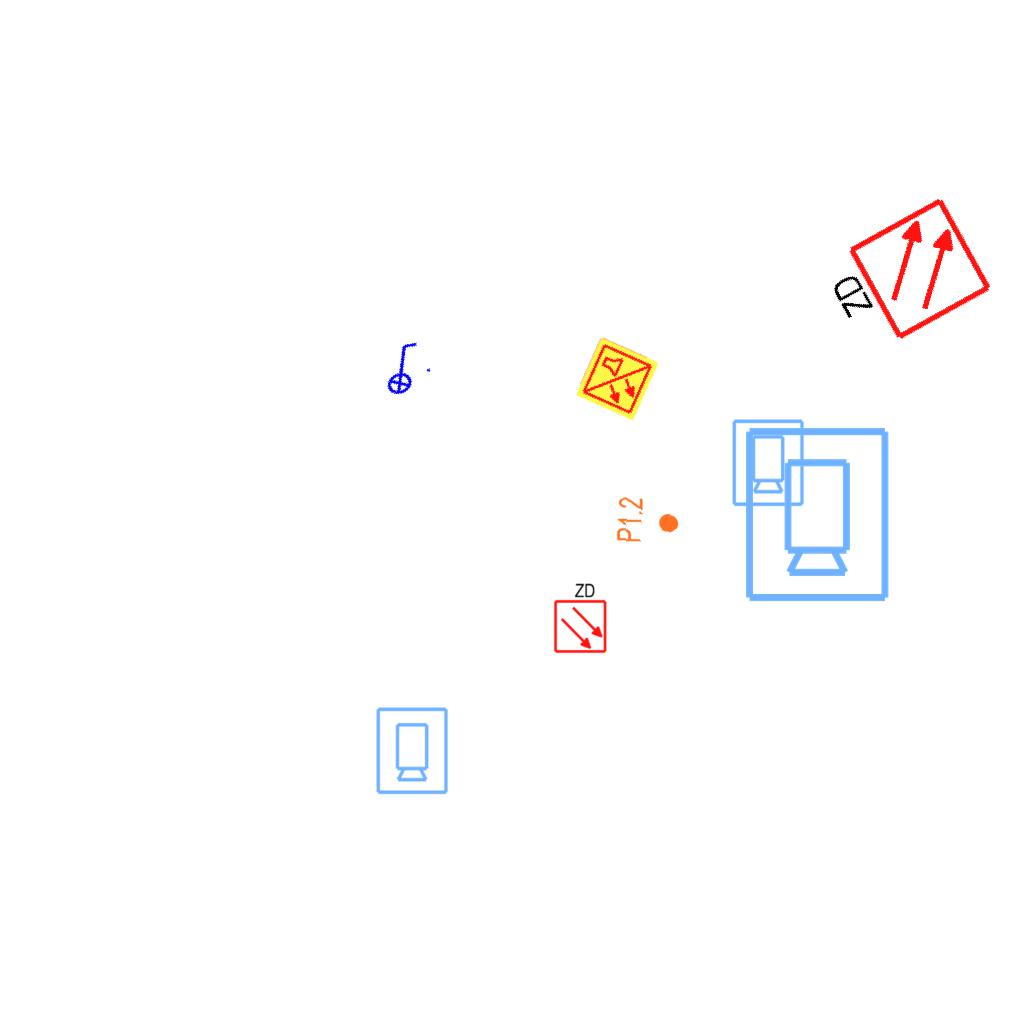Ausschalter_beleuchtet: (366, 334, 438, 402)
Downlight_LED_Einbauleuchten_Flur: (614, 495, 682, 547)
KFO_Kamera_mit_Festobjektiv: (739, 423, 893, 605), (729, 417, 806, 508), (373, 705, 450, 796)
OKW_Multisensormelder_(Kombination_optischer_Rauch-Kahlenmonoxid_Waerme-Melder): (573, 335, 661, 423)
ZD_Melder_in_Zwischendecke_mit_Revisionsoeffnung_mind_40_x_40_cm: (811, 193, 997, 366), (551, 580, 608, 654)
